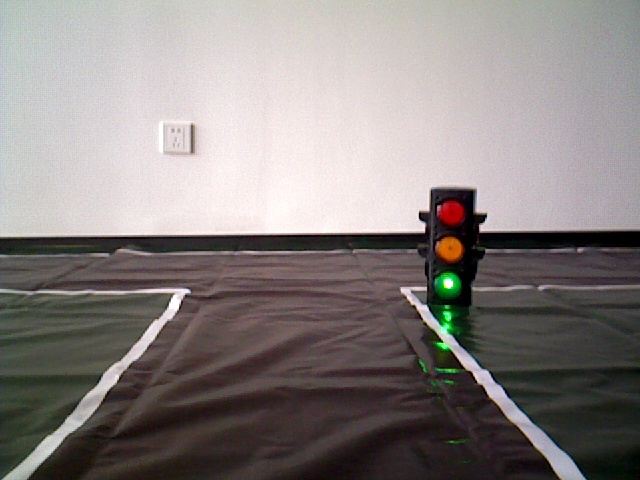green: (430, 189, 466, 297)
